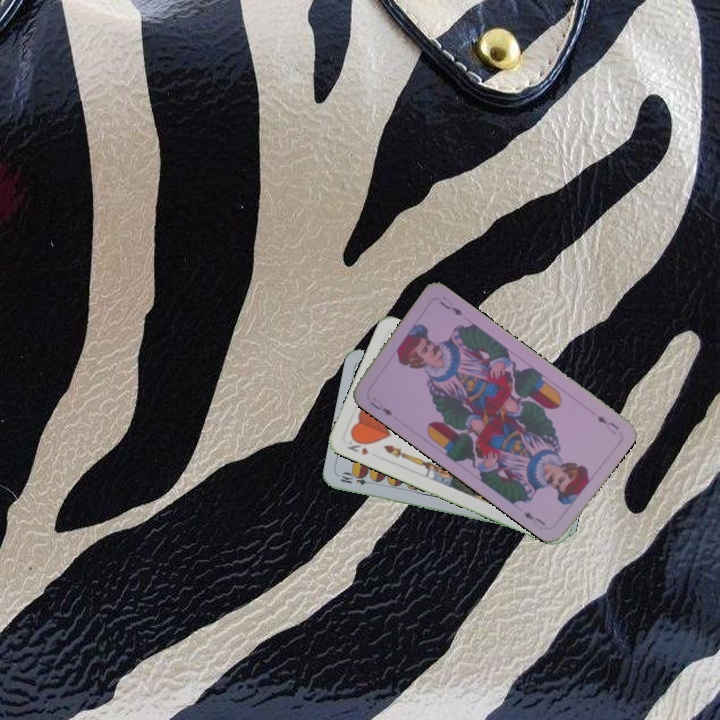E10: (337, 470, 377, 488)
EU: (593, 411, 622, 437), (366, 396, 395, 419)
HK: (343, 433, 372, 458)
